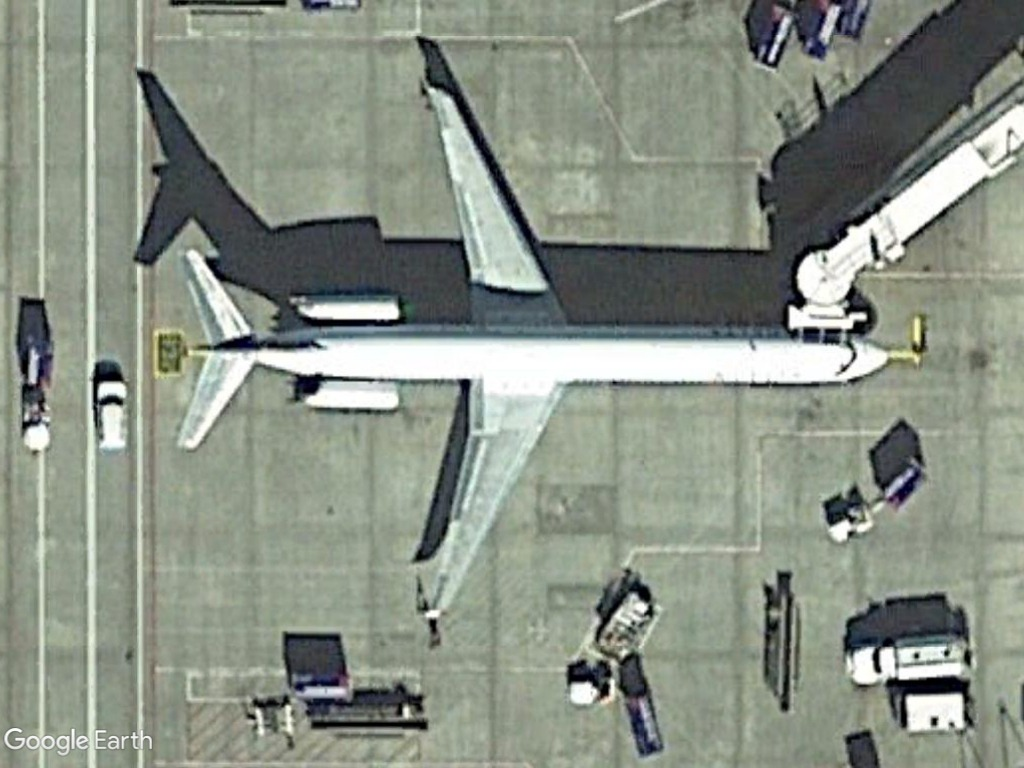car: (95, 376, 134, 454)
chartered: (159, 77, 893, 626)
